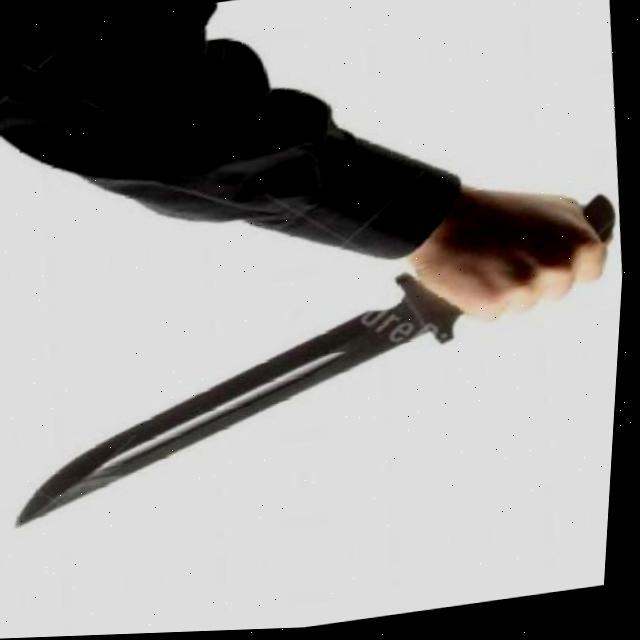knife: (0, 198, 630, 528)
